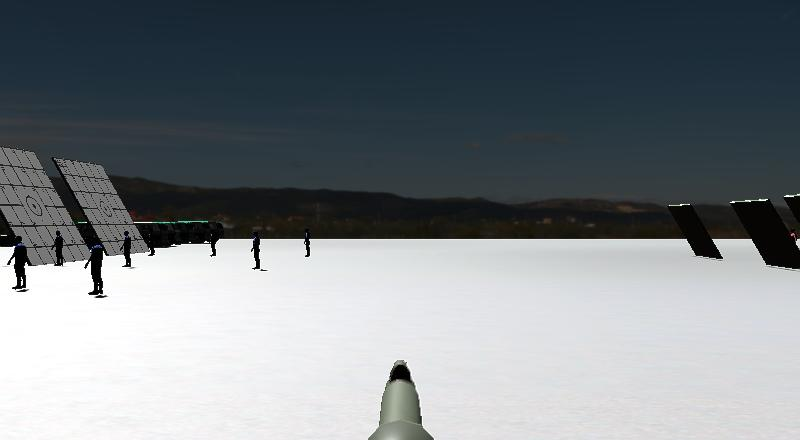Human: (79, 230, 116, 302), (4, 231, 35, 296), (244, 225, 271, 276), (297, 224, 317, 264)
car: (131, 210, 230, 254)
